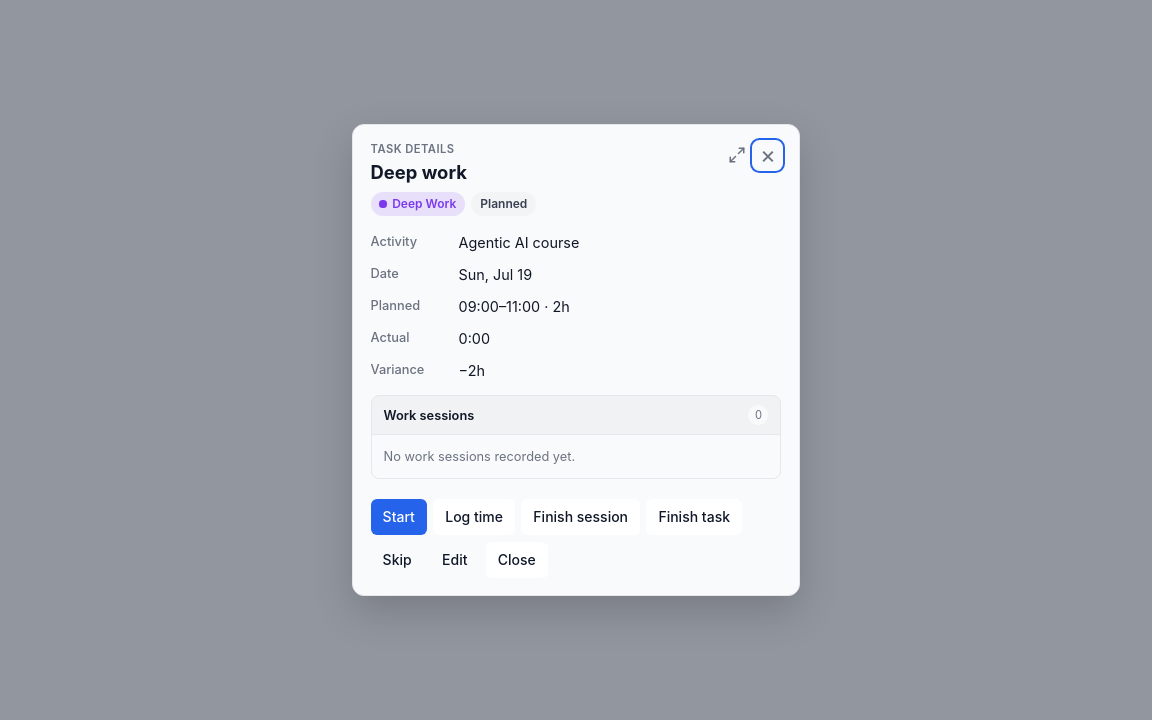
Scenario: TaskDetailModal focus mode › expands to full screen with a Start button and times
Click the button named "Expand to full screen" at (737, 155), box left=723, top=141, right=752, bottom=170
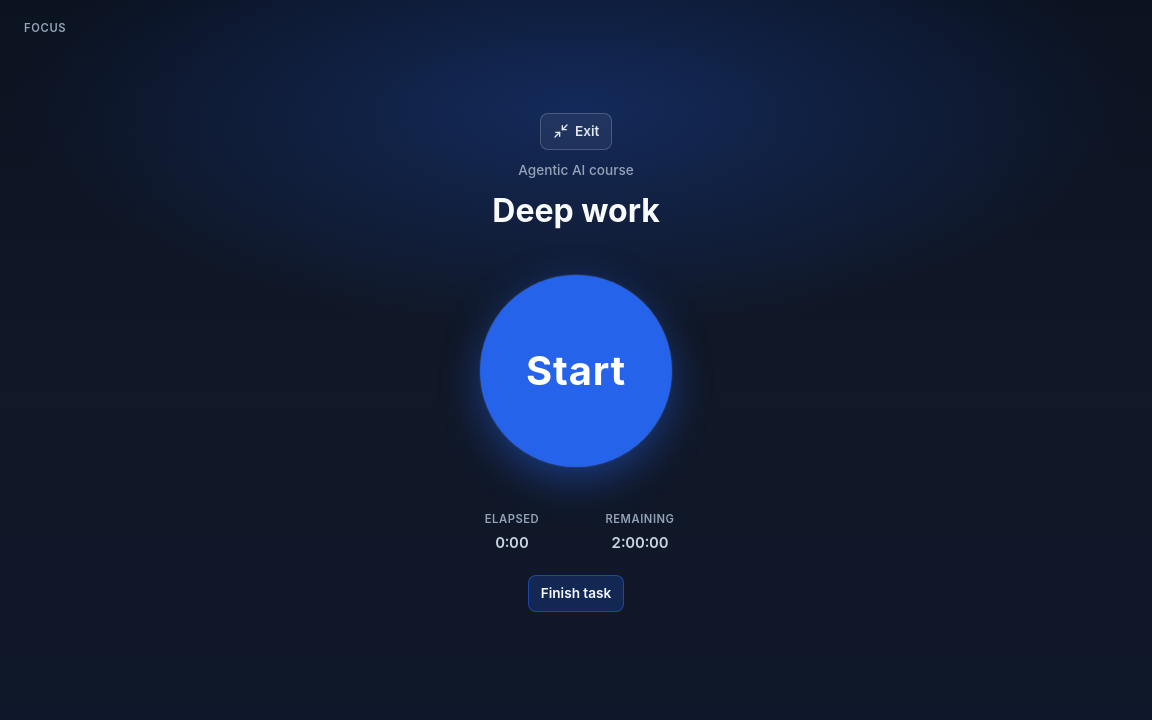
Expected: the text "Elapsed" is shown, left=485, top=512, right=539, bottom=526
Expected: the text "Remaining" is shown, left=605, top=512, right=674, bottom=526
Expected: the button with aria-label "Exit focus mode" is shown, left=540, top=113, right=612, bottom=150
